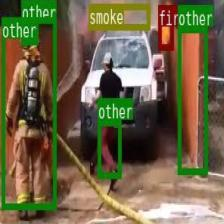fire: (158, 4, 173, 48)
smoke: (88, 3, 149, 29)
